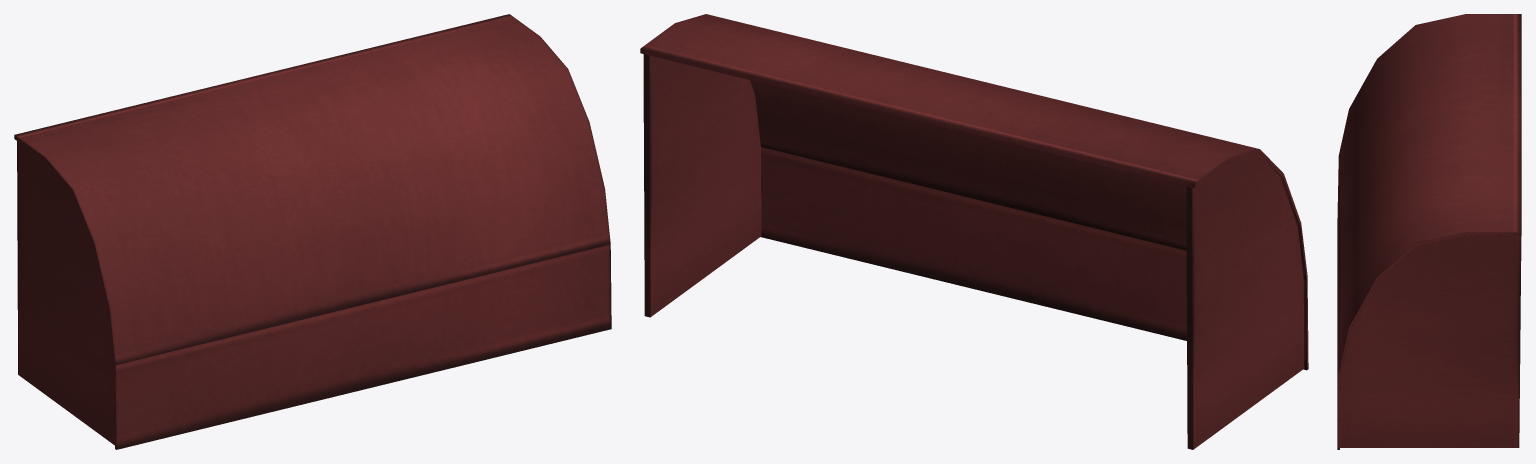
The model's file is ds_canopy_1_C.FBX.
3 views of the same model, side by side, from view 1: azimuth 30°, elevation 25°; view 2: azimuth 150°, elevation 25°; view 3: azimuth 270°, elevation 25° (orthographic). The views are drawn at different scales.
Parts seen in each view (by area): view 1: ds_canopy_1_C; view 2: ds_canopy_1_C; view 3: ds_canopy_1_C.
Part boxes in pixels (x1,y1,x2,y2): ds_canopy_1_C: (14,14,611,449); ds_canopy_1_C: (640,14,1308,449); ds_canopy_1_C: (1337,14,1521,449).
Size of the model in its own units: 10.08 by 3.6 by 4.68.
